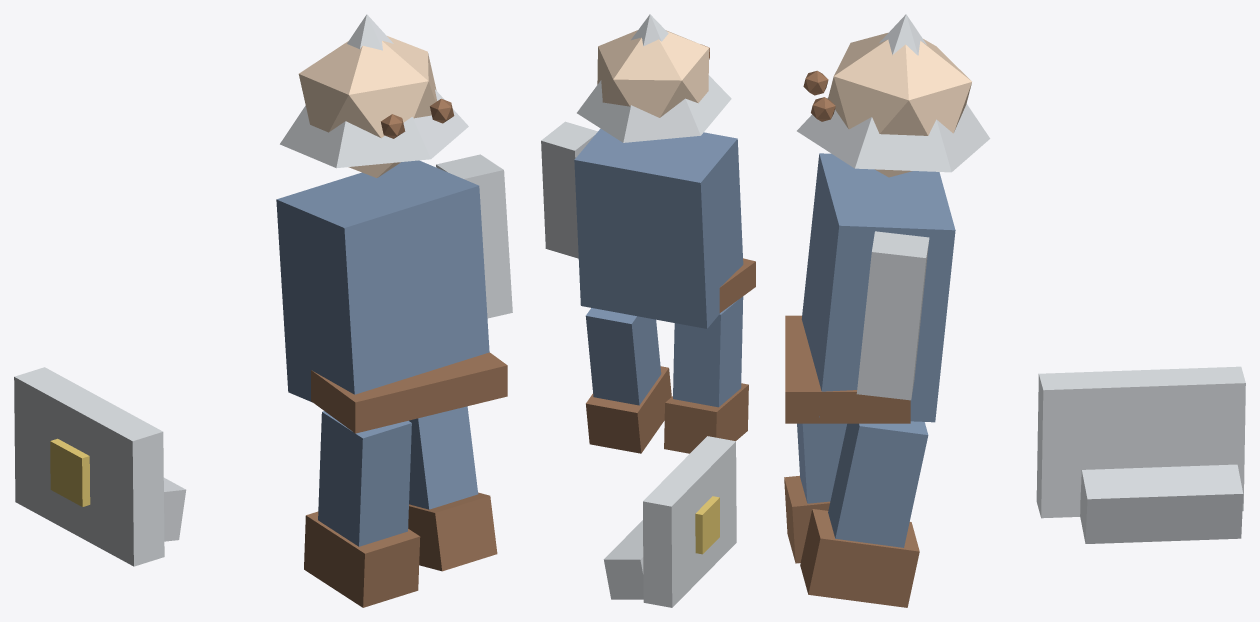
The model's file is npcpose_guard_attack_04.glb.
The picture shows the model from 3 angles, left to right: view 1: azimuth 30°, elevation 25°; view 2: azimuth 150°, elevation 25°; view 3: azimuth 270°, elevation 25°; orthographic projection. The views are drawn at different scales.
Visible parts, largest first — view 1: npcpose; view 2: npcpose; view 3: npcpose.
Part boxes in pixels (x1,y1,x2,y2): npcpose: [14, 14, 512, 607]; npcpose: [541, 14, 755, 607]; npcpose: [784, 14, 1245, 607].
Size of the model in its own units: 0.9528 by 1.64 by 1.18.
